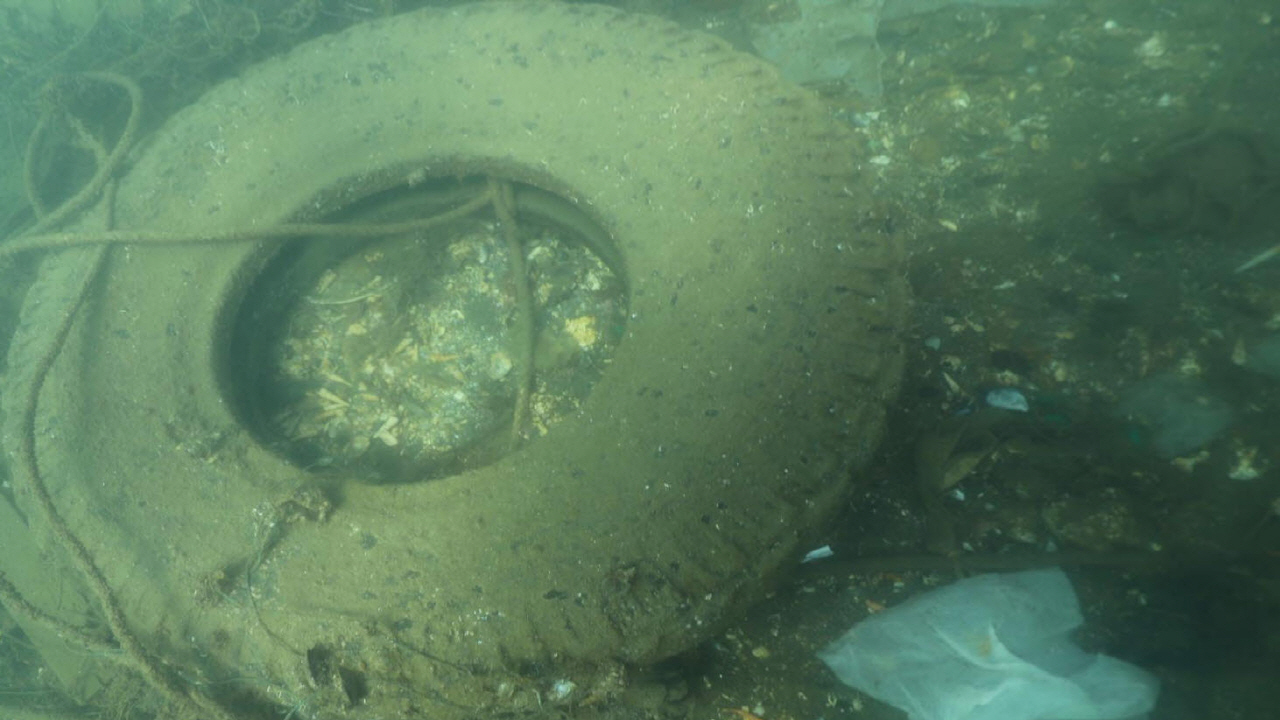bundle of ropes: (0, 64, 538, 720)
tire: (0, 0, 907, 712)
